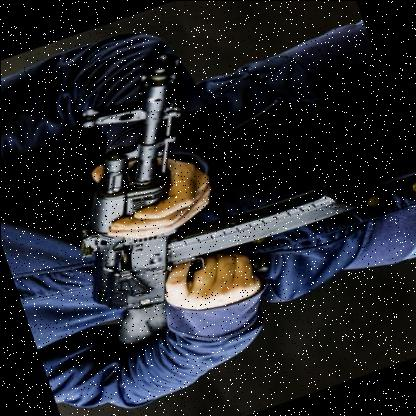rifle: (14, 9, 380, 365)
